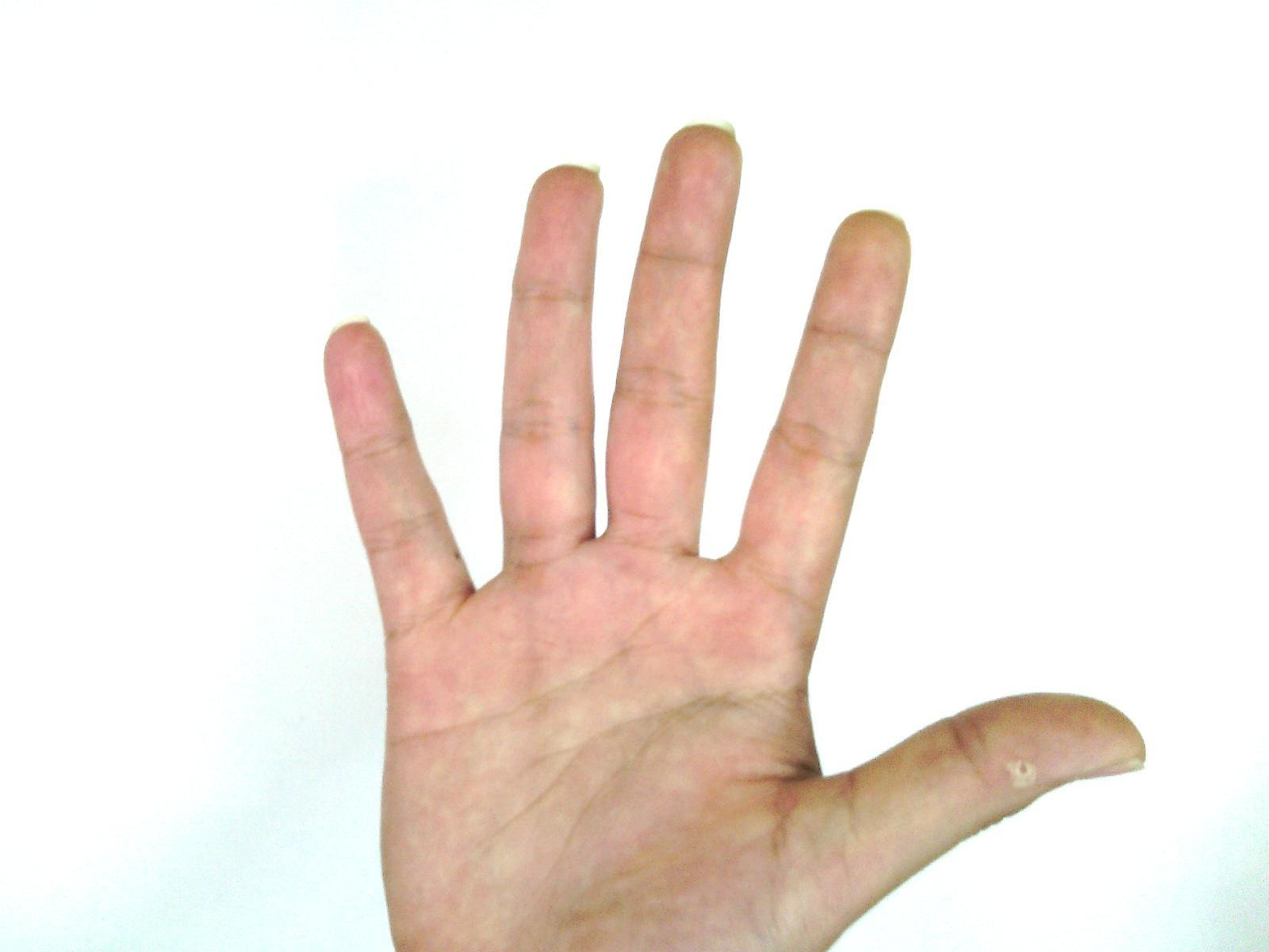open_palm: (319, 121, 1148, 952)
